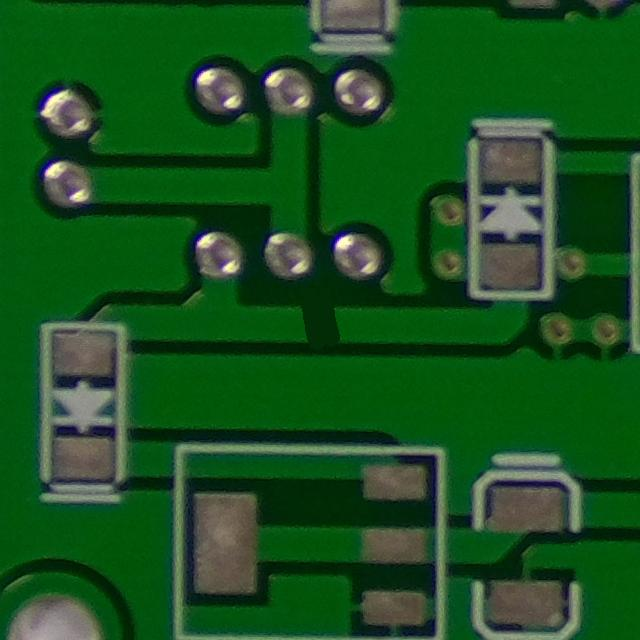open_circuit: (287, 293, 354, 348)
